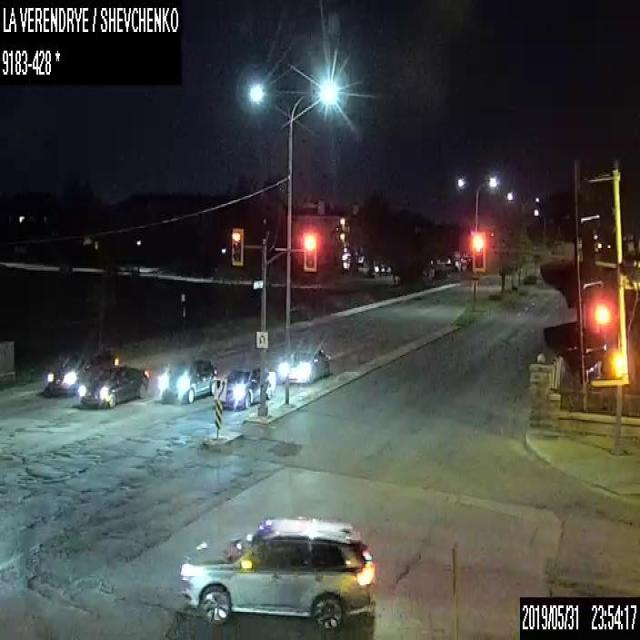vehicle: (179, 514, 378, 630), (46, 344, 118, 392), (80, 362, 148, 408), (220, 363, 275, 409), (160, 357, 216, 400), (278, 344, 330, 384)
